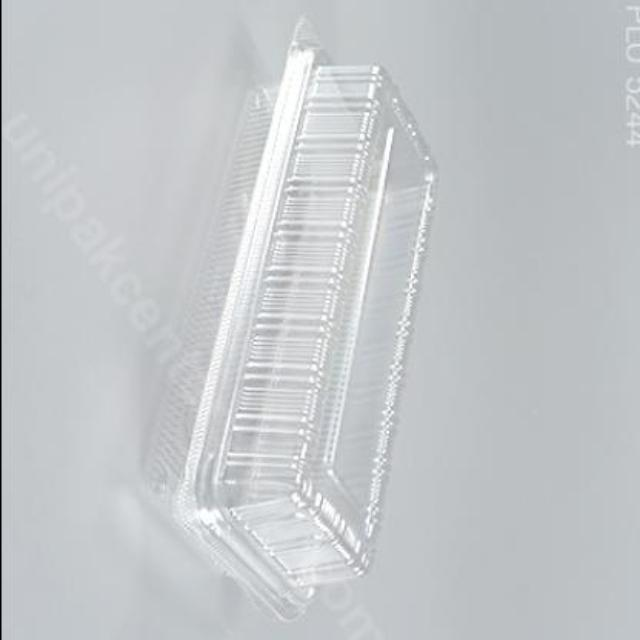plastic_box: (142, 14, 438, 624)
